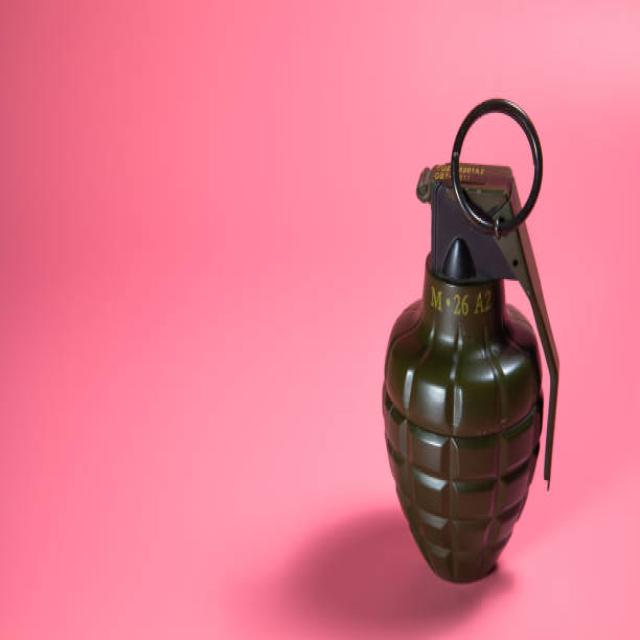grenade: (373, 85, 570, 591)
